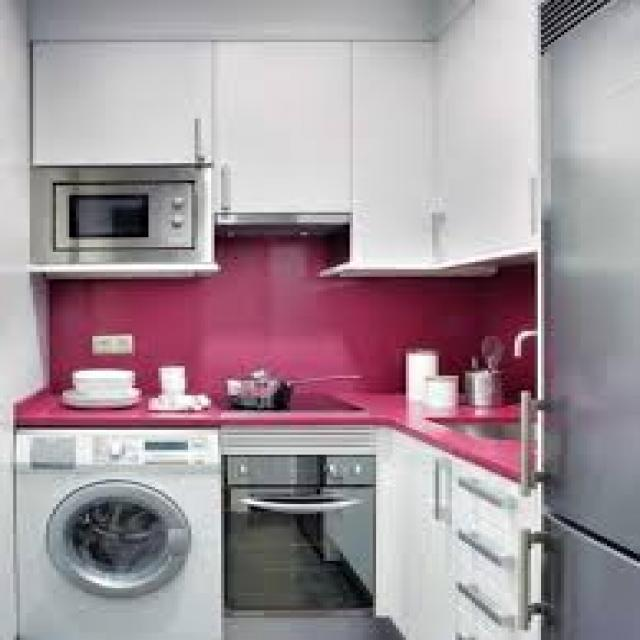oven: (226, 440, 386, 630), (26, 160, 200, 264)
refrigerator: (492, 17, 640, 634)
washing machine: (5, 418, 222, 632)
